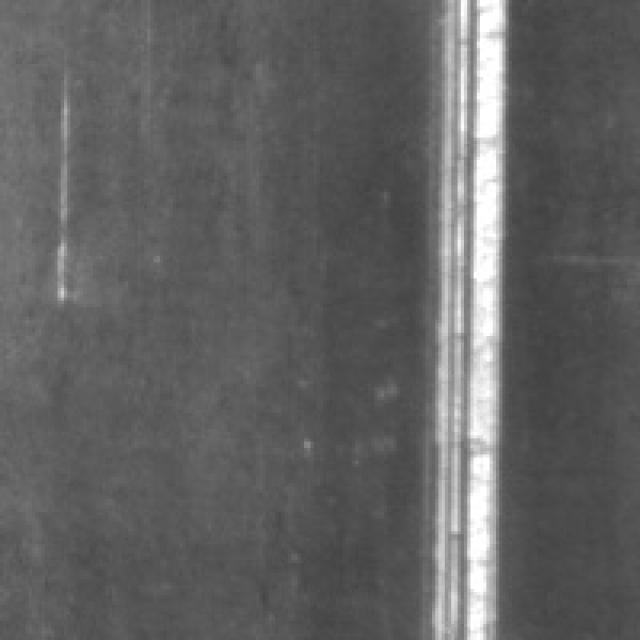scratches: (409, 0, 508, 634)
